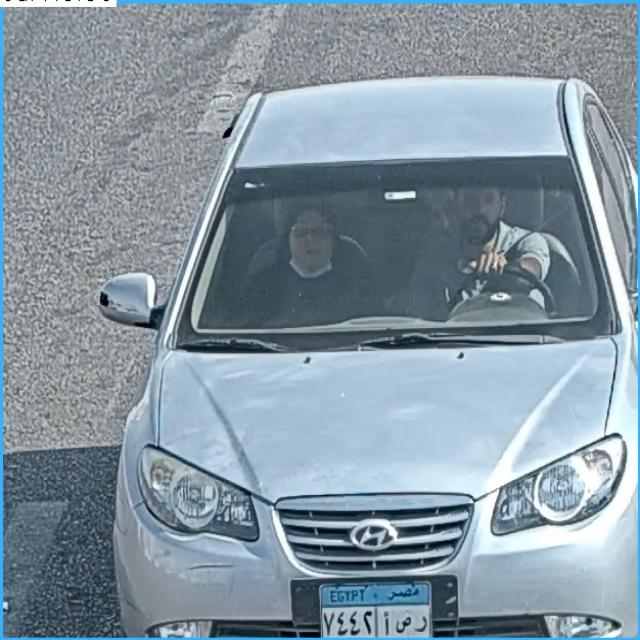windshield: (194, 170, 608, 338)
